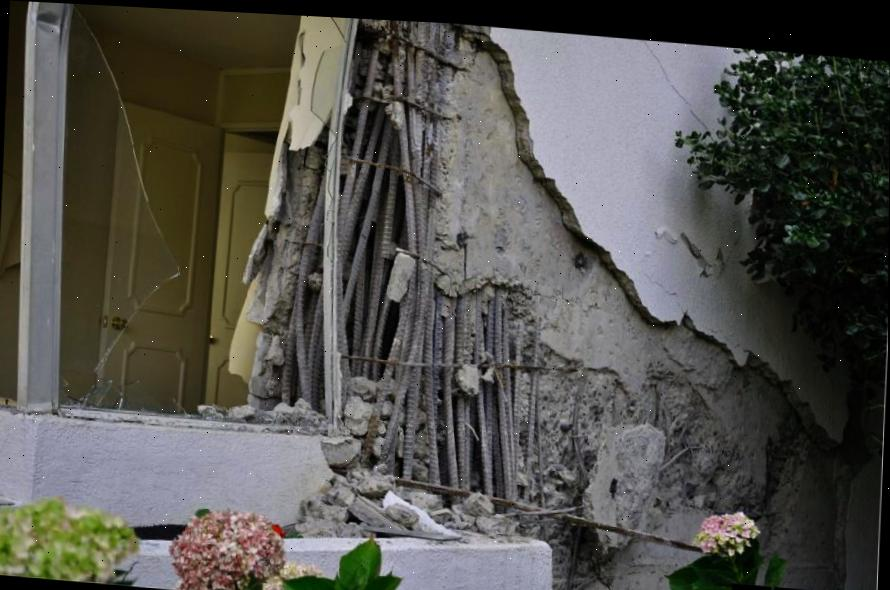spalling: (336, 19, 853, 586), (248, 136, 328, 411)
